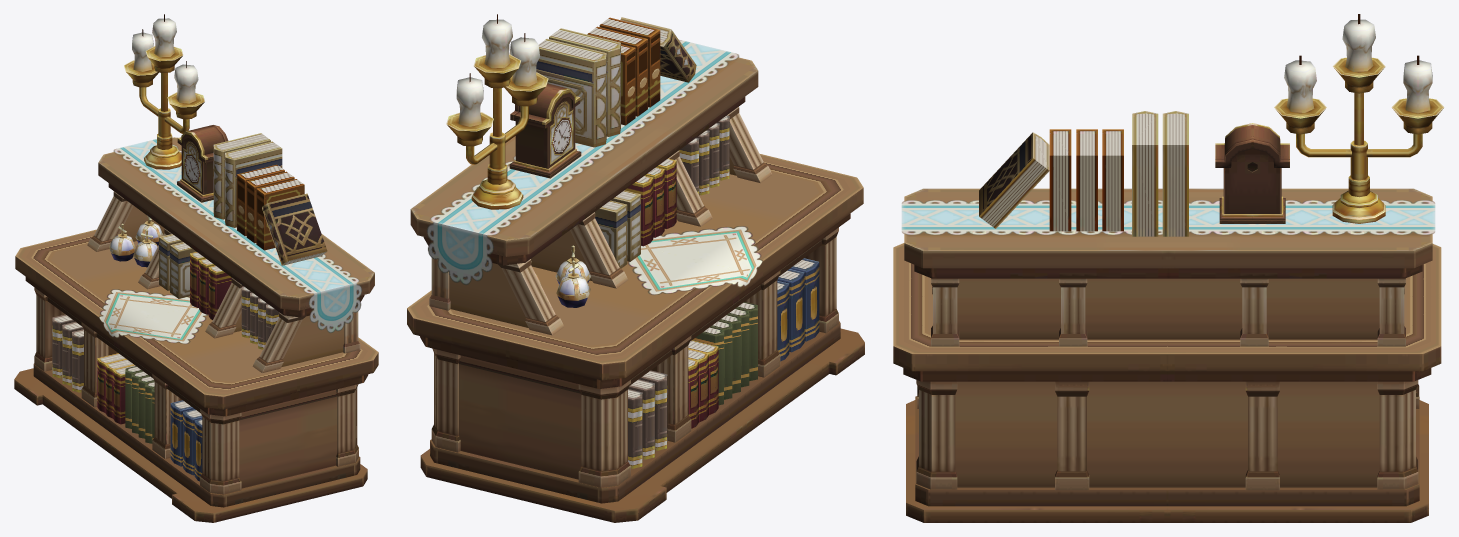
File: my_trinityclassroom_01_desk_01.glb
3 views of the same model, side by side, from view 1: azimuth 30°, elevation 25°; view 2: azimuth 150°, elevation 25°; view 3: azimuth 270°, elevation 25° (orthographic). The views are drawn at different scales.
Parts seen in each view (by area): view 1: my_trinityclassroom_01_desk_01; view 2: my_trinityclassroom_01_desk_01; view 3: my_trinityclassroom_01_desk_01.
Part boxes in pixels (left/top/right/bottom): my_trinityclassroom_01_desk_01: left=14, top=14, right=378, bottom=522; my_trinityclassroom_01_desk_01: left=407, top=14, right=864, bottom=522; my_trinityclassroom_01_desk_01: left=893, top=14, right=1444, bottom=522.
Bounding box in the file's own units: 0.00586 × 0.0111 × 0.0115.
Materials: 3 (3 with a texture image).
